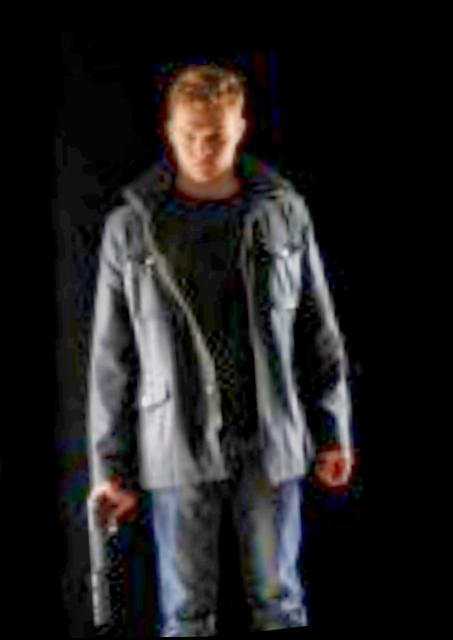pistol: (71, 472, 151, 622)
